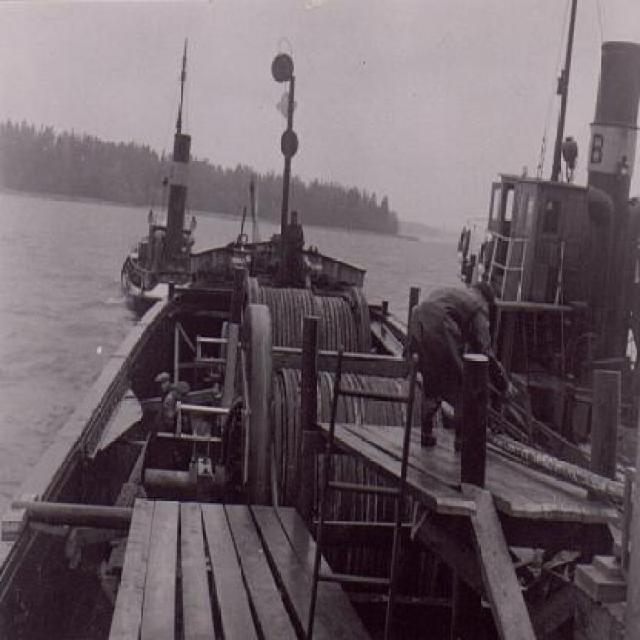Person: (412, 255, 505, 493)
